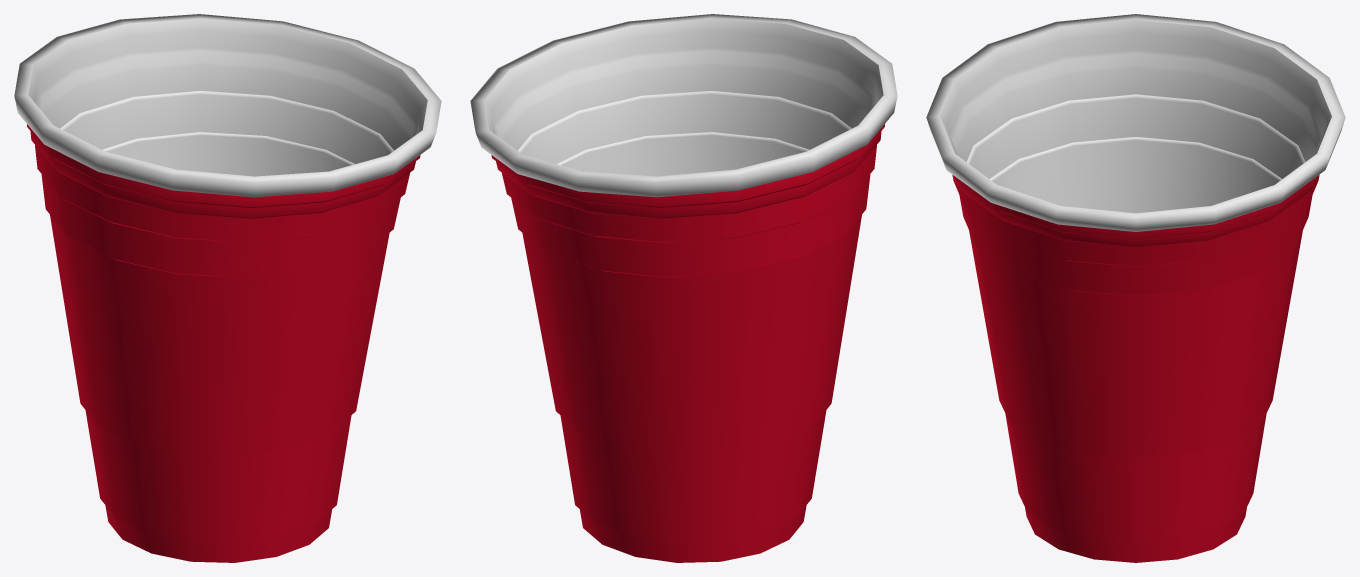
File: plastic_cup_high.fbx
The picture shows the model from 3 angles, left to right: view 1: azimuth 30°, elevation 25°; view 2: azimuth 150°, elevation 25°; view 3: azimuth 270°, elevation 25°; orthographic projection. The views are drawn at different scales.
Parts seen in each view (by area): view 1: plastic_cup_opt:plasticCup; view 2: plastic_cup_opt:plasticCup; view 3: plastic_cup_opt:plasticCup.
Part boxes in pixels (left/top/right/bottom): plastic_cup_opt:plasticCup: left=14, top=14, right=441, bottom=562; plastic_cup_opt:plasticCup: left=470, top=14, right=897, bottom=562; plastic_cup_opt:plasticCup: left=926, top=14, right=1345, bottom=562.
Size of the model in its own units: 84.1 by 93.27 by 84.37.
